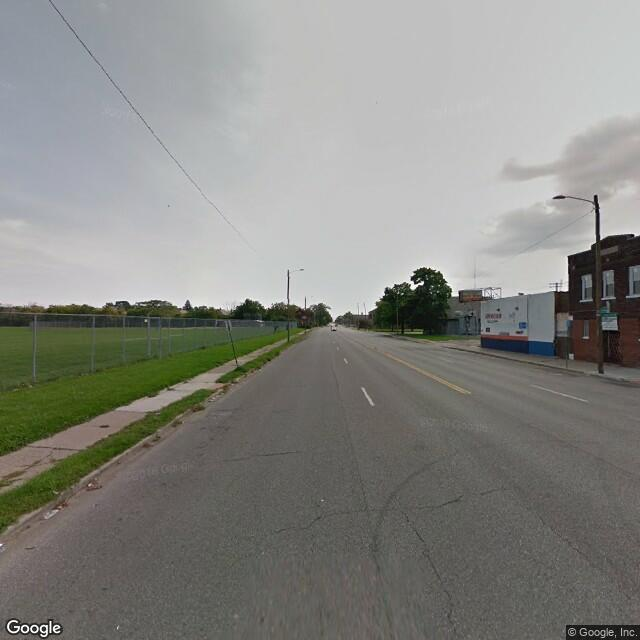litter: (42, 510, 66, 524), (1, 540, 9, 552), (207, 396, 219, 403), (86, 480, 97, 485)
